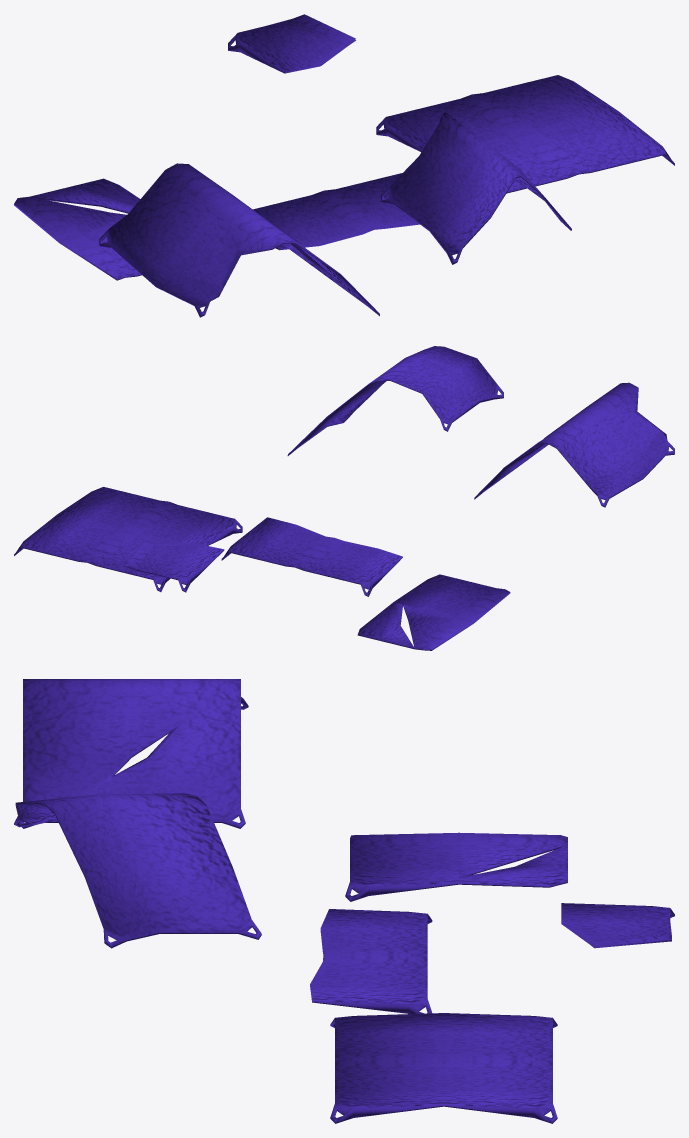
The model's file is DamagedTarps_DarkBlue.obj.
3 views of the same model, one above another, from view 1: azimuth 30°, elevation 25°; view 2: azimuth 150°, elevation 25°; view 3: azimuth 270°, elevation 25° (orthographic). The views are drawn at different scales.
Visible parts, largest first — view 1: Plane.012_Material.187, Plane.017_Material.187, Plane.011_Material.187, Plane.015_Material.187, Plane.014_Material.187, Plane.013_Material.187; view 2: Plane.012_Material.187, Plane.017_Material.187, Plane.011_Material.187, Plane.015_Material.187, Plane.014_Material.187, Plane.013_Material.187; view 3: Plane.017_Material.187, Plane.011_Material.187, Plane.012_Material.187, Plane.015_Material.187, Plane.014_Material.187, Plane.013_Material.187.
Part boxes in pixels (x1=…): Plane.012_Material.187: x1=376, y1=75, x2=674, y2=193; Plane.017_Material.187: x1=99, y1=163, x2=379, y2=317; Plane.011_Material.187: x1=381, y1=112, x2=571, y2=264; Plane.015_Material.187: x1=14, y1=178, x2=141, y2=280; Plane.014_Material.187: x1=253, y1=173, x2=419, y2=250; Plane.013_Material.187: x1=228, y1=14, x2=355, y2=73; Plane.012_Material.187: x1=14, y1=487, x2=242, y2=591; Plane.017_Material.187: x1=474, y1=382, x2=674, y2=507; Plane.011_Material.187: x1=287, y1=346, x2=503, y2=455; Plane.015_Material.187: x1=357, y1=574, x2=510, y2=650; Plane.014_Material.187: x1=221, y1=517, x2=402, y2=596; Plane.013_Material.187: x1=126, y1=542, x2=224, y2=592; Plane.017_Material.187: x1=19, y1=679, x2=248, y2=828; Plane.011_Material.187: x1=14, y1=793, x2=261, y2=948; Plane.012_Material.187: x1=330, y1=1013, x2=557, y2=1123; Plane.015_Material.187: x1=345, y1=832, x2=567, y2=901; Plane.014_Material.187: x1=310, y1=909, x2=432, y2=1013; Plane.013_Material.187: x1=561, y1=903, x2=674, y2=948.
Bounding box in the file's own units: 6.69 × 1.81 × 6.06.
